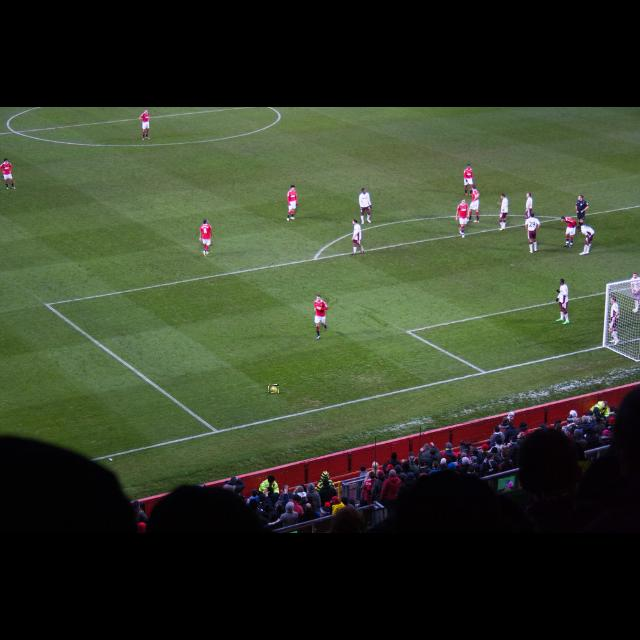Football: (269, 385, 279, 393)
